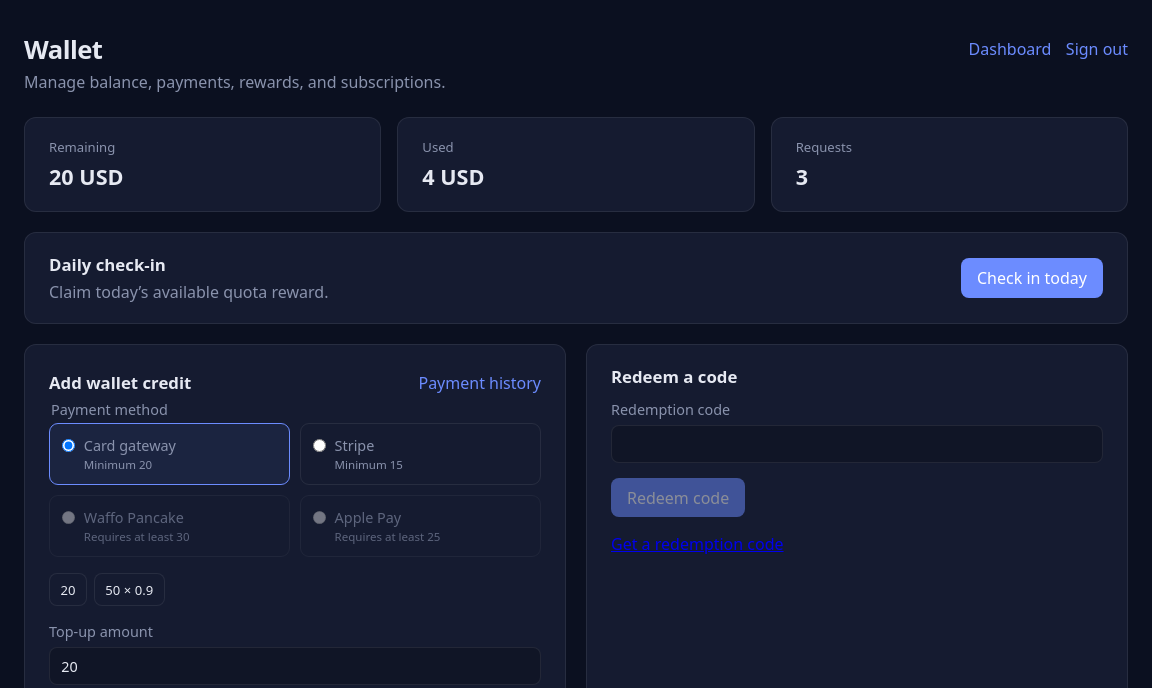
Test: WalletView › explains provider-specific minimums and offers a one-click valid amount
This screenshot has width=1152, height=688.
Expected: the radio button with aria-label "Apple Pay. Requires at least 25" is disabled, [313, 511, 326, 524]
Replace the text in the field labelled "Top-up amount" with "10" at (295, 666), box [49, 647, 541, 685]
(page scrolled)
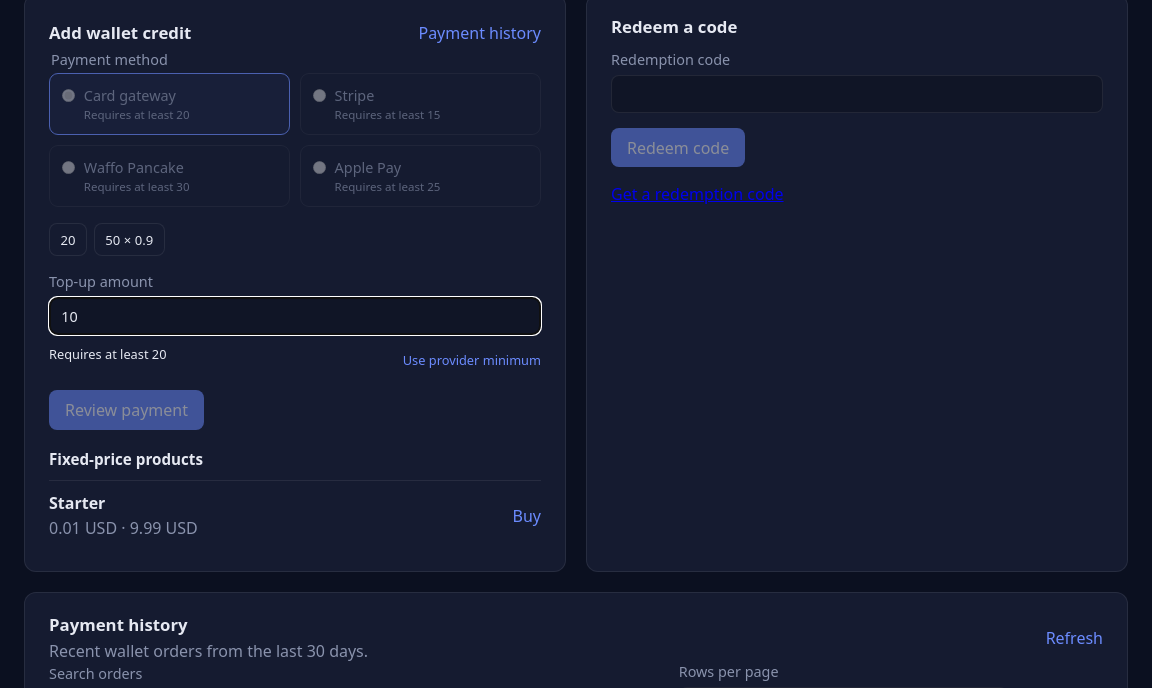
Now the button "Review payment" is disabled, box [49, 390, 204, 430]
Click the button "Use provider minimum" at (472, 360), box [403, 345, 541, 376]
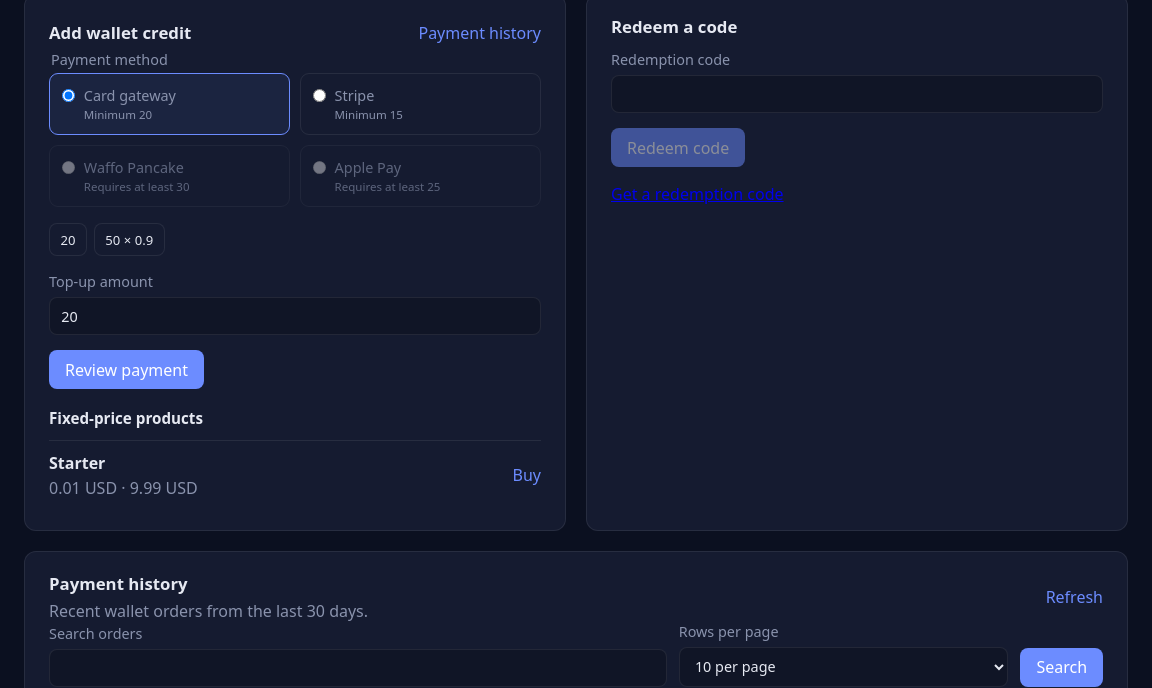
Now the field labelled "Top-up amount" holds "20", box [49, 297, 541, 335]
Now the button "Review payment" is enabled, box [49, 350, 204, 389]
